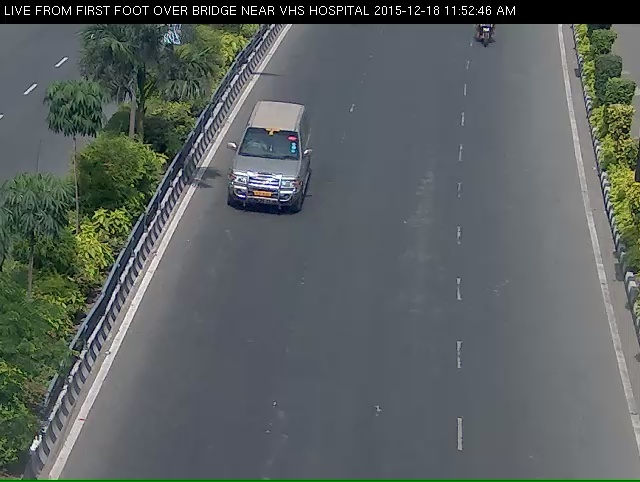Car: (217, 117, 314, 237)
Person: (472, 21, 502, 58)
